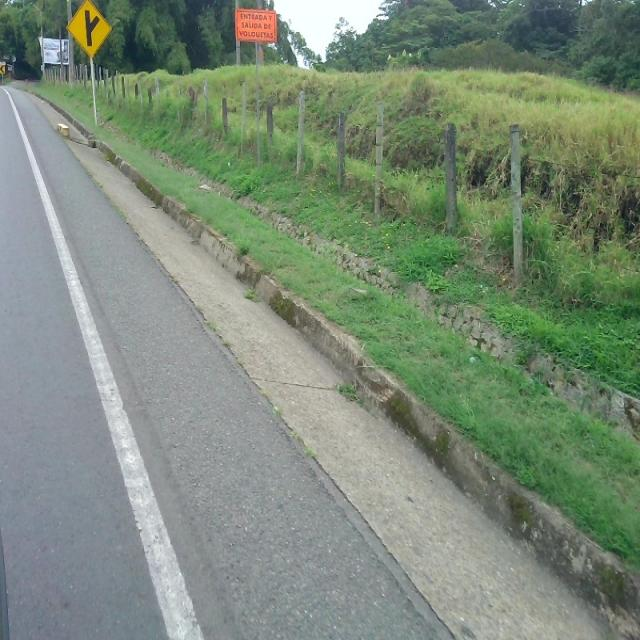DITCH: (20, 84, 638, 638)
